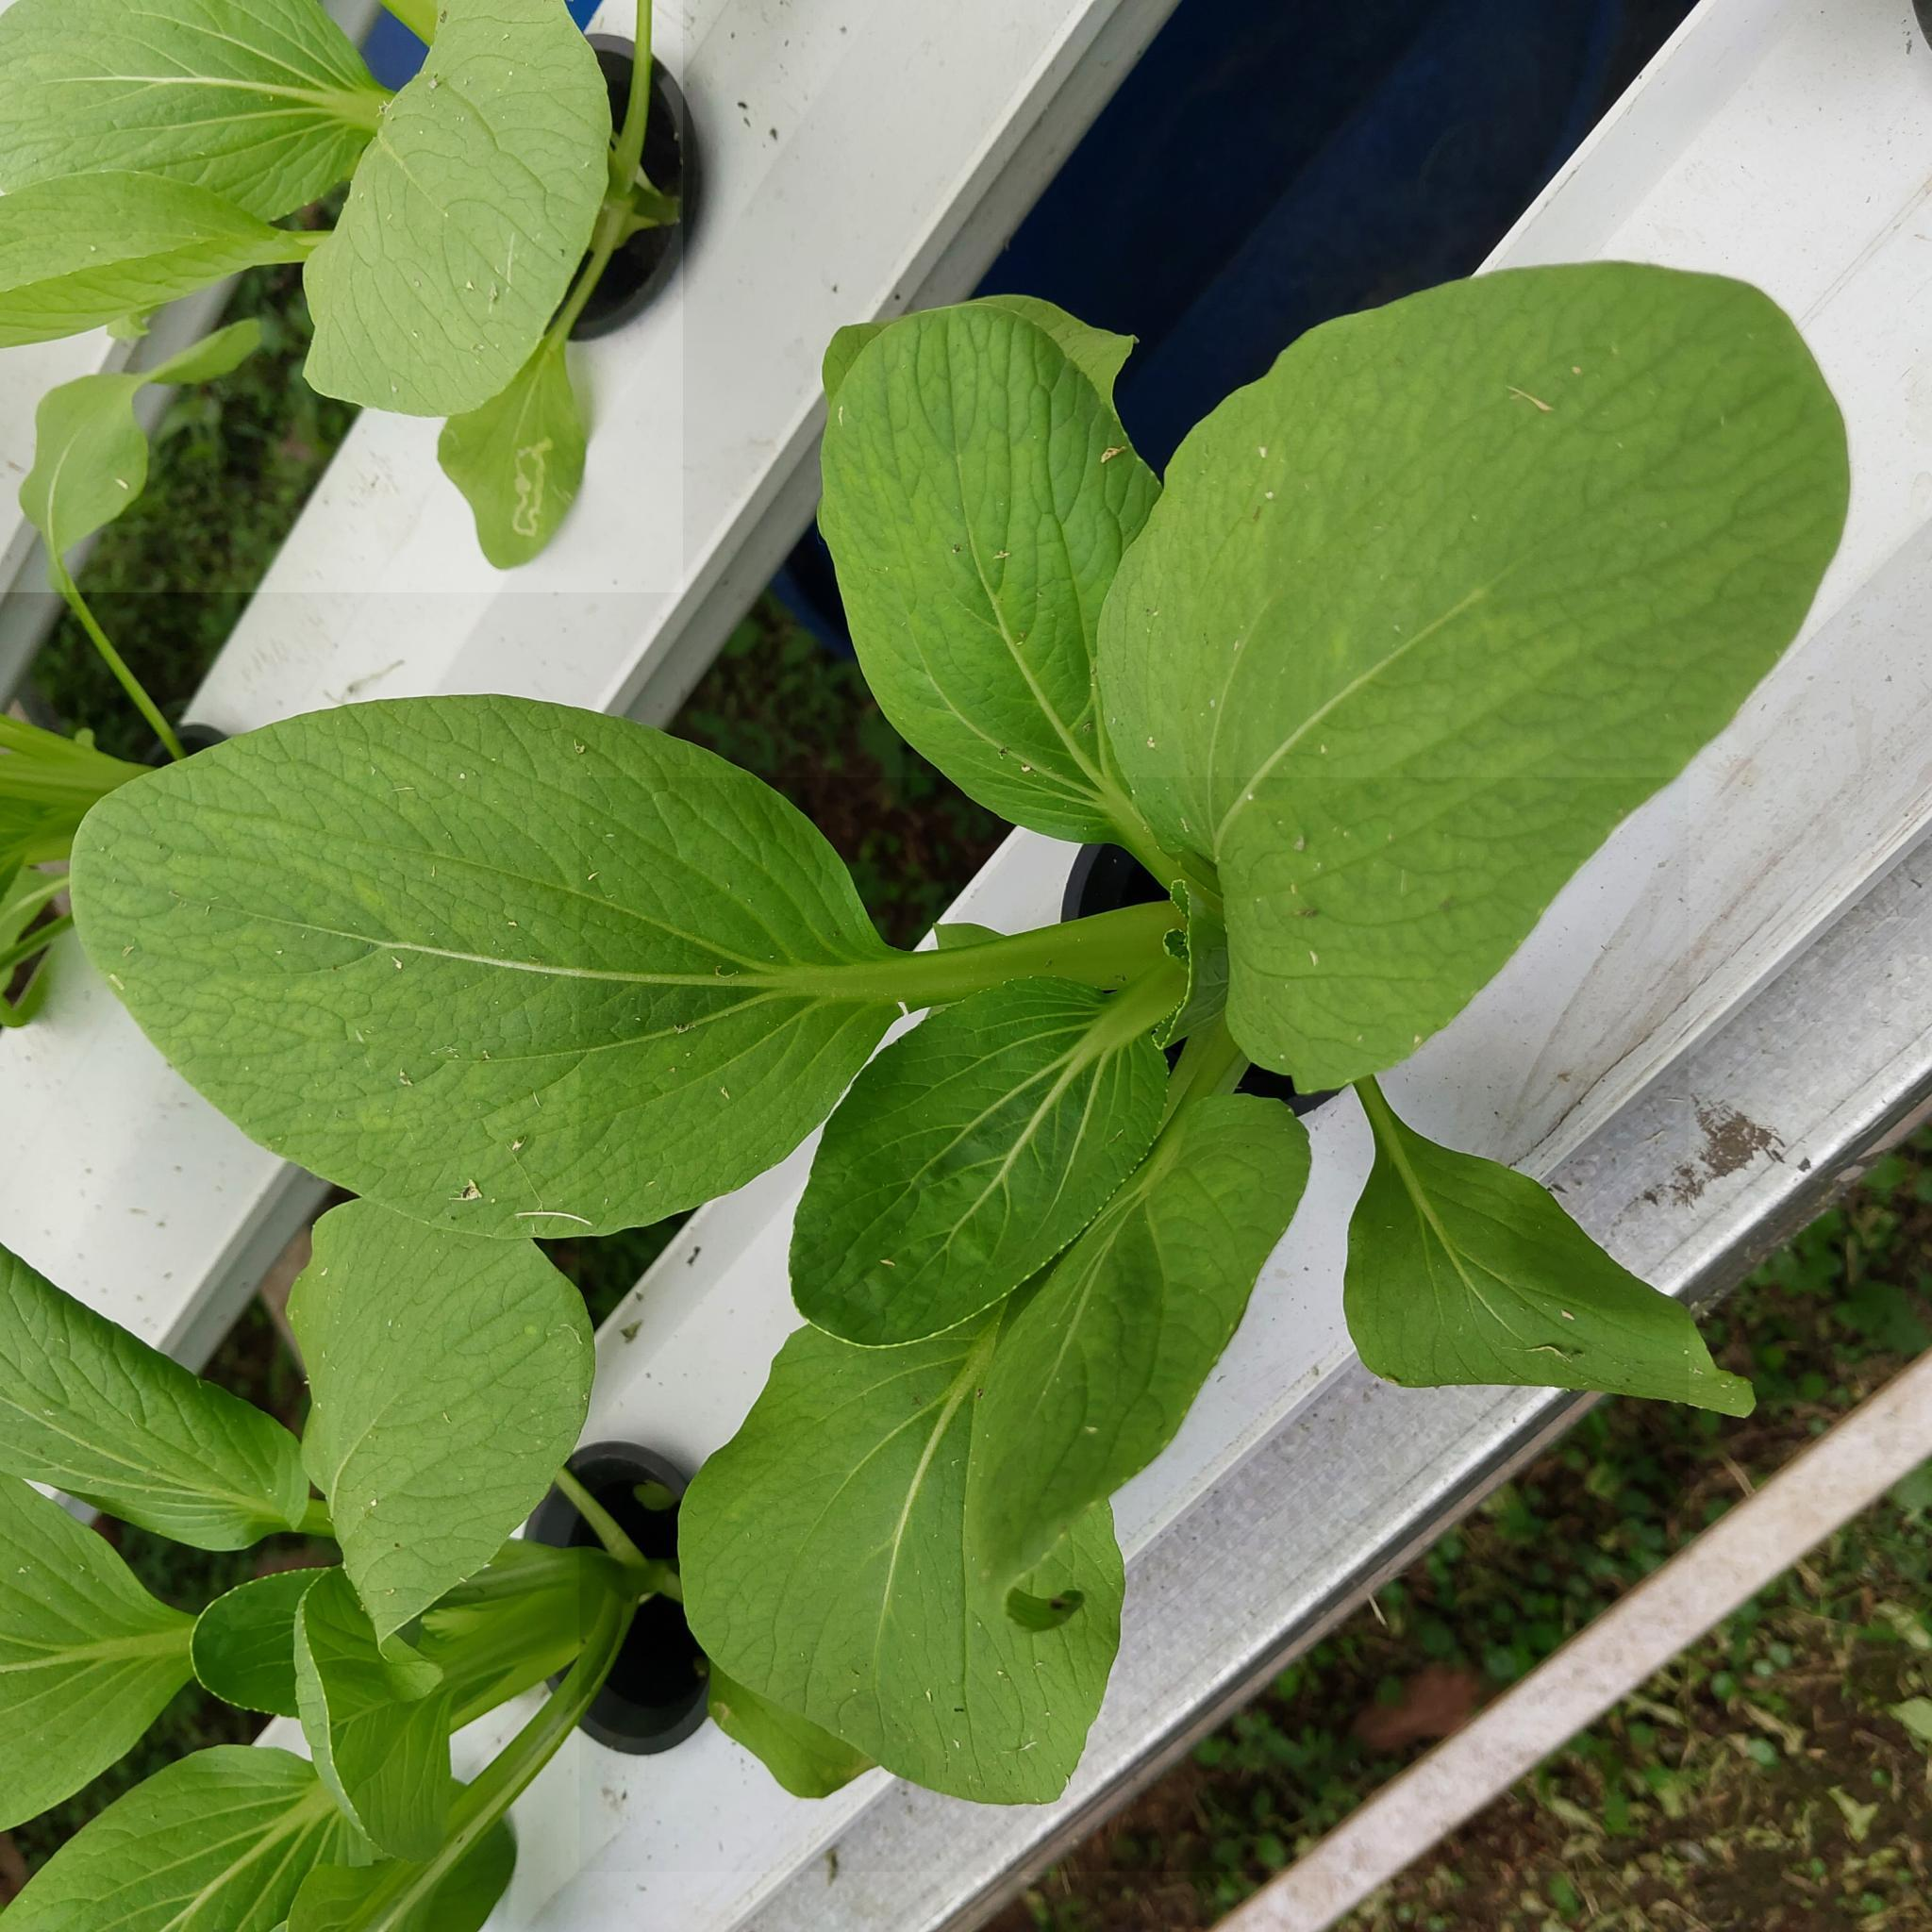Healthy-Pechay: (48, 708, 1102, 1391), (1108, 264, 1868, 1040), (685, 1302, 1031, 1815), (817, 292, 1120, 878), (287, 1185, 605, 1656), (1330, 1077, 1752, 1414), (253, 1537, 653, 1879), (299, 2, 617, 428), (0, 1224, 327, 1557), (4, 0, 403, 258), (163, 821, 830, 970), (0, 1442, 234, 1852), (1240, 561, 1518, 844), (7, 1750, 349, 1925), (0, 170, 317, 352), (681, 902, 1108, 1016), (442, 326, 591, 573), (874, 1330, 977, 1658), (25, 609, 205, 768), (189, 1569, 347, 1721), (48, 71, 354, 106), (605, 0, 656, 207), (5, 1628, 184, 1677), (823, 320, 883, 405)
